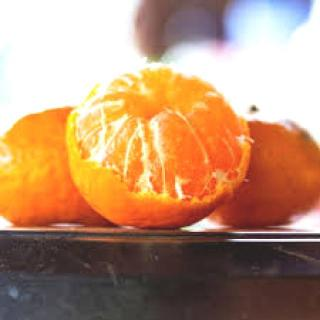orange: (66, 57, 248, 237), (9, 87, 176, 269)
